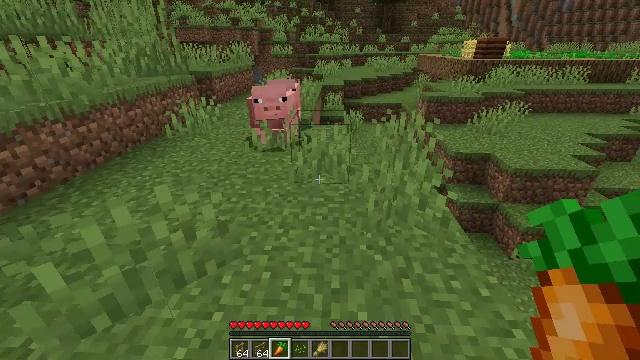pig: (246, 85, 298, 148)
